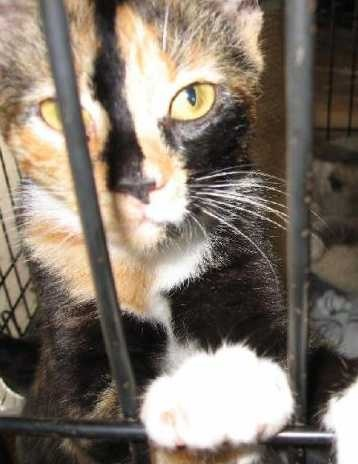Cat: (82, 0, 291, 390)
